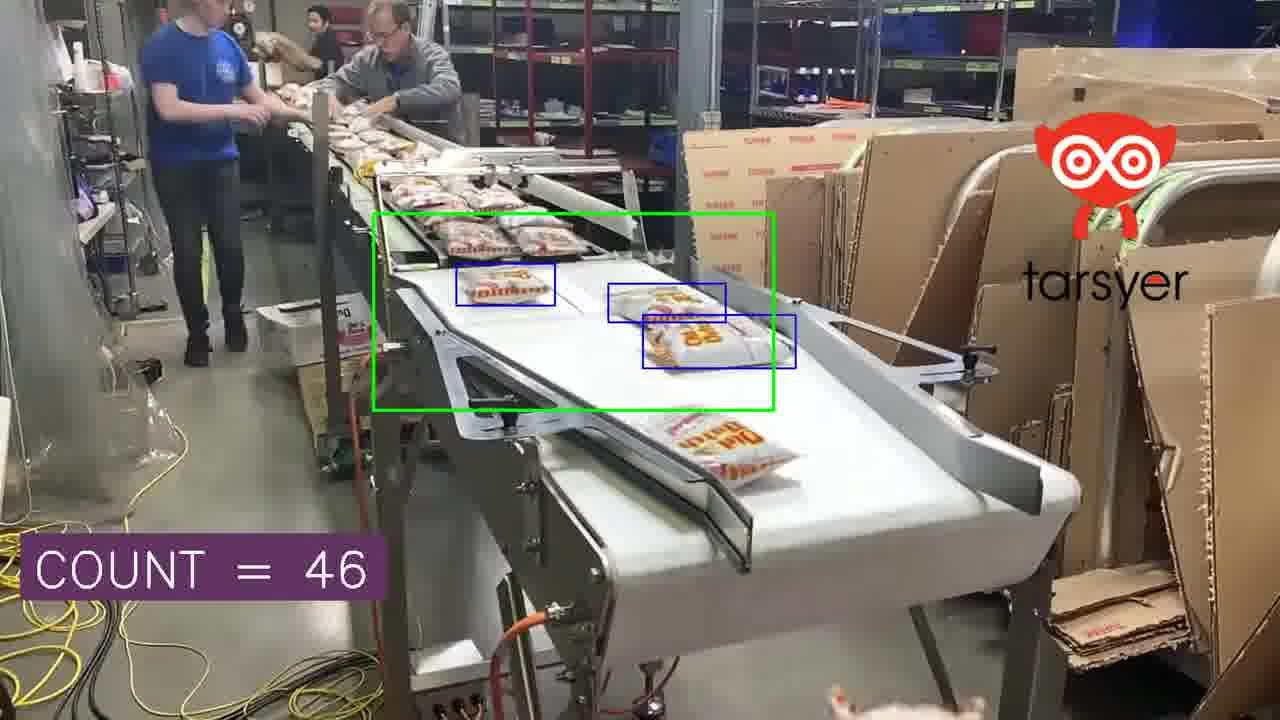Snack: (649, 409, 798, 489), (644, 315, 771, 369), (608, 285, 727, 322), (459, 265, 553, 305), (432, 219, 518, 260), (507, 226, 594, 260), (411, 193, 484, 229), (390, 184, 467, 210), (497, 205, 571, 232), (459, 185, 524, 211), (350, 147, 392, 178), (379, 159, 425, 187), (382, 176, 441, 191), (373, 136, 415, 157), (397, 143, 439, 163), (356, 129, 398, 145), (330, 136, 367, 154)
